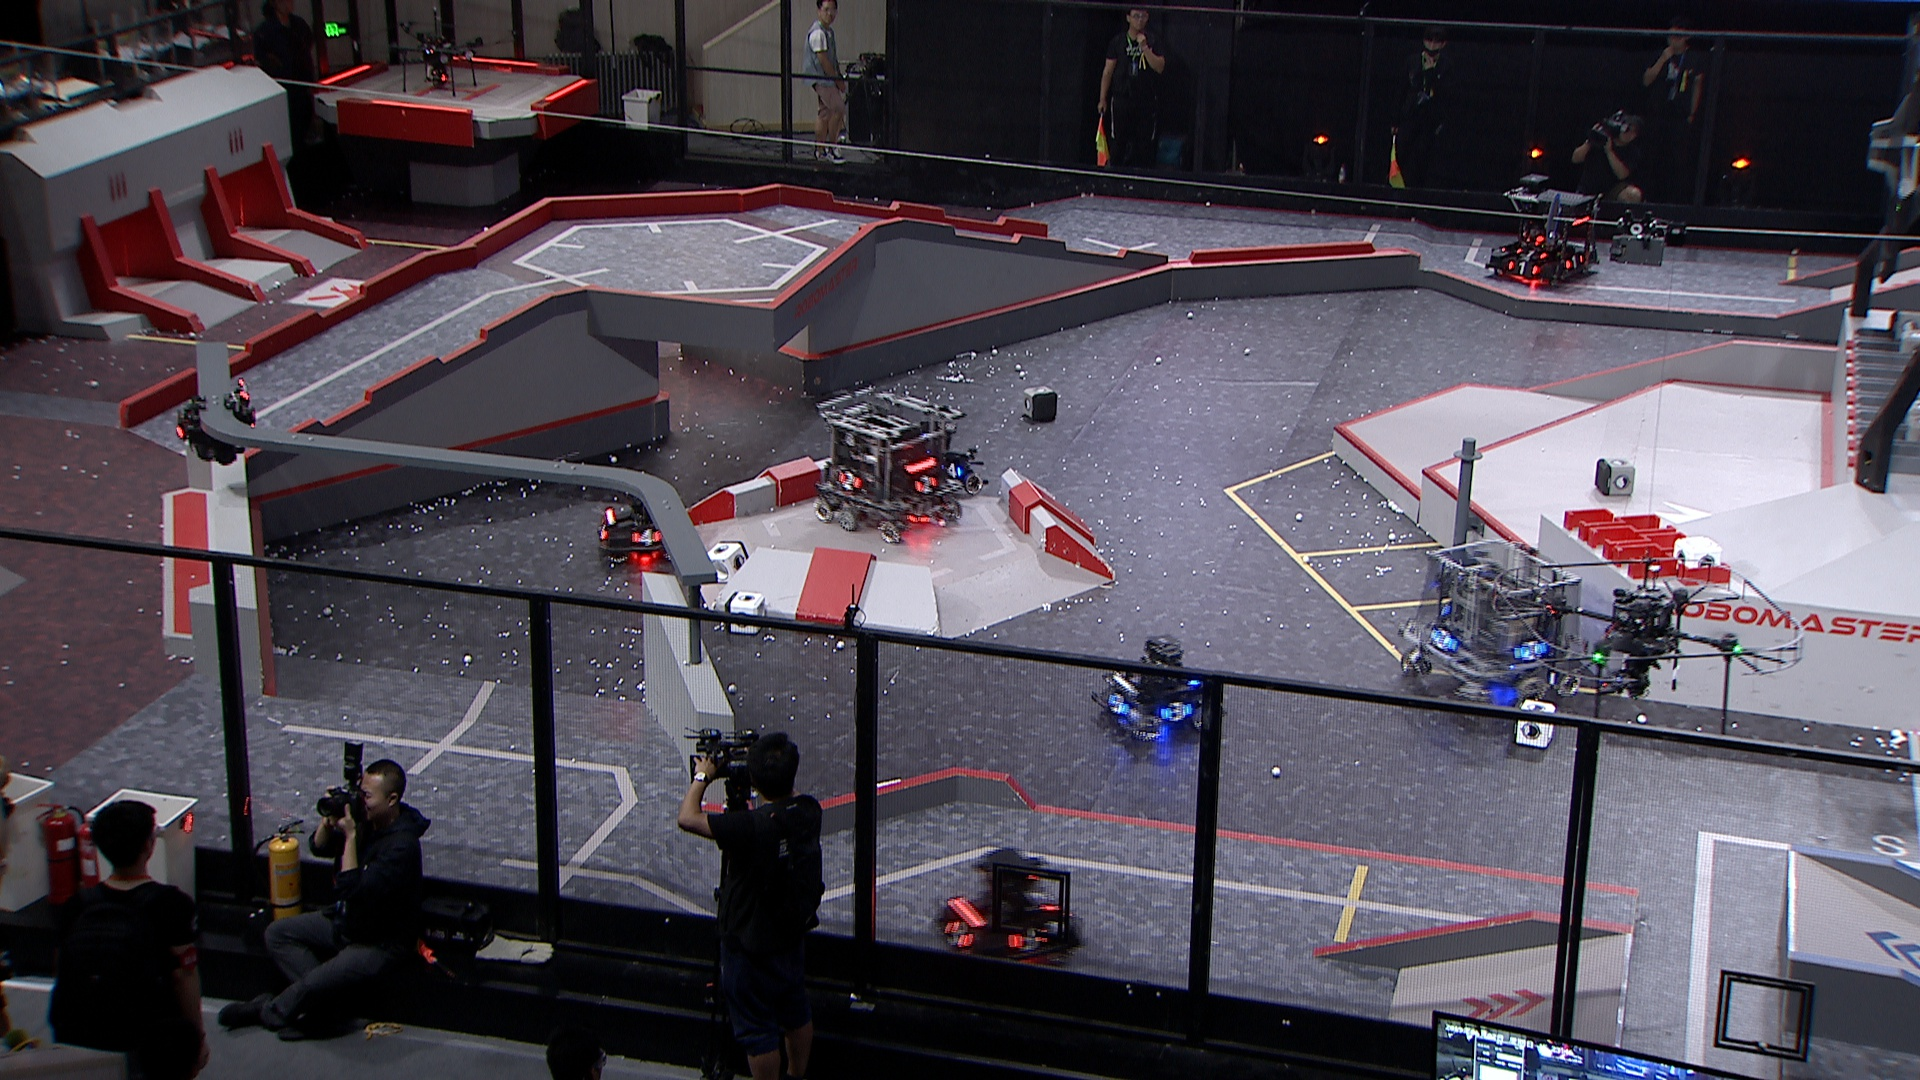armor: (1005, 922, 1051, 949), (1159, 699, 1196, 725), (945, 916, 973, 949), (1428, 624, 1457, 654), (1514, 638, 1549, 661), (629, 527, 661, 547), (836, 469, 862, 493), (913, 475, 942, 496), (1506, 258, 1542, 276), (1105, 690, 1130, 713), (1514, 245, 1548, 261), (944, 462, 965, 481), (1563, 255, 1585, 272), (596, 520, 611, 541)
car: (1396, 538, 1585, 708), (808, 385, 959, 545), (934, 844, 1083, 971), (1482, 171, 1600, 289), (1092, 637, 1220, 744), (593, 480, 692, 567), (884, 419, 984, 502)
watcher: (171, 375, 258, 469)
